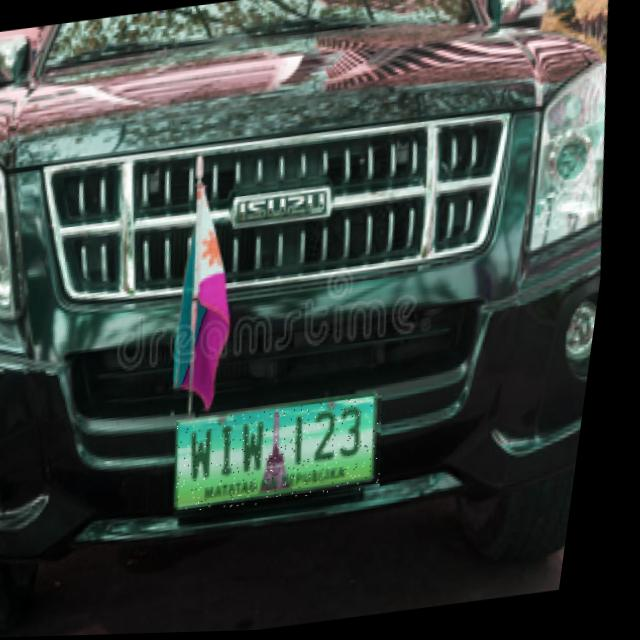license_plate: (178, 398, 403, 518)
